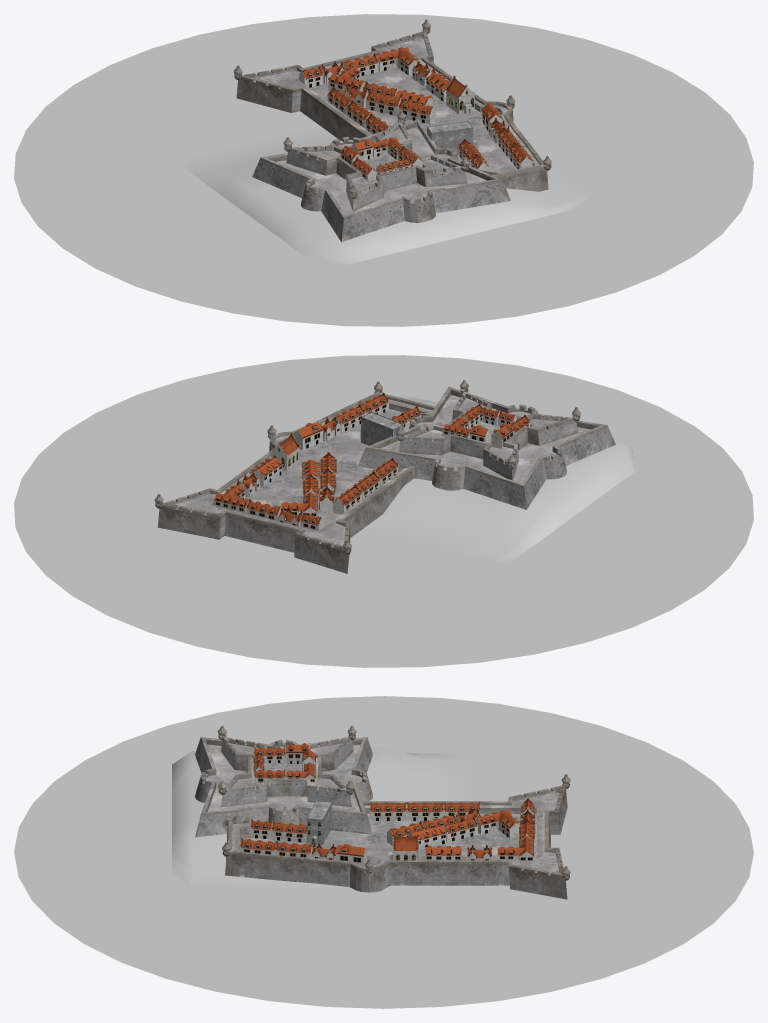
File: AnpingOldFort.fbx
The picture shows the model from 3 angles, top to bottom: view 1: azimuth 30°, elevation 25°; view 2: azimuth 150°, elevation 25°; view 3: azimuth 270°, elevation 25°; orthographic projection.
Visible parts, largest first — view 1: mud, bottom_fort_Original, middle_fort, top_fort, Concrete_House_Original, Church, BD6, BD35, BD37, BD38; view 2: mud, bottom_fort_Original, middle_fort, top_fort, Concrete_House_Original, BD6, Church, BD31, BD5, BD35; view 3: mud, bottom_fort_Original, middle_fort, top_fort, Concrete_House_Original, BD35, Church, BD6, BD39, BD46, BD40, BD34 (+3 smaller).
Boxes of the visible parts, x1,y1,x2,y2 form: mud: (14, 14, 753, 326); bottom_fort_Original: (233, 19, 551, 191); middle_fort: (252, 119, 510, 242); top_fort: (283, 110, 469, 211); Concrete_House_Original: (427, 121, 477, 155); Church: (445, 75, 475, 114); BD6: (376, 47, 421, 75); BD35: (328, 66, 364, 93); BD37: (398, 98, 435, 124); BD38: (366, 90, 401, 115); mud: (14, 355, 753, 667); bottom_fort_Original: (154, 381, 435, 573); middle_fort: (358, 386, 615, 509); top_fort: (395, 380, 580, 480); Concrete_House_Original: (360, 412, 403, 445); BD6: (213, 484, 248, 513); Church: (270, 432, 300, 471); BD31: (249, 457, 283, 486); BD5: (292, 422, 323, 449); BD35: (281, 492, 318, 516); mud: (14, 696, 753, 1008); bottom_fort_Original: (222, 774, 570, 899); middle_fort: (195, 737, 373, 837); top_fort: (217, 725, 356, 807); Concrete_House_Original: (306, 800, 332, 847); BD35: (476, 810, 520, 838); Church: (388, 834, 419, 860); BD6: (497, 836, 534, 860); BD39: (370, 802, 406, 820); BD46: (271, 821, 306, 842); BD40: (407, 801, 443, 820); BD34: (443, 816, 477, 842).
Bounding box in the file's own units: 15.49 × 1.65 × 15.49.
